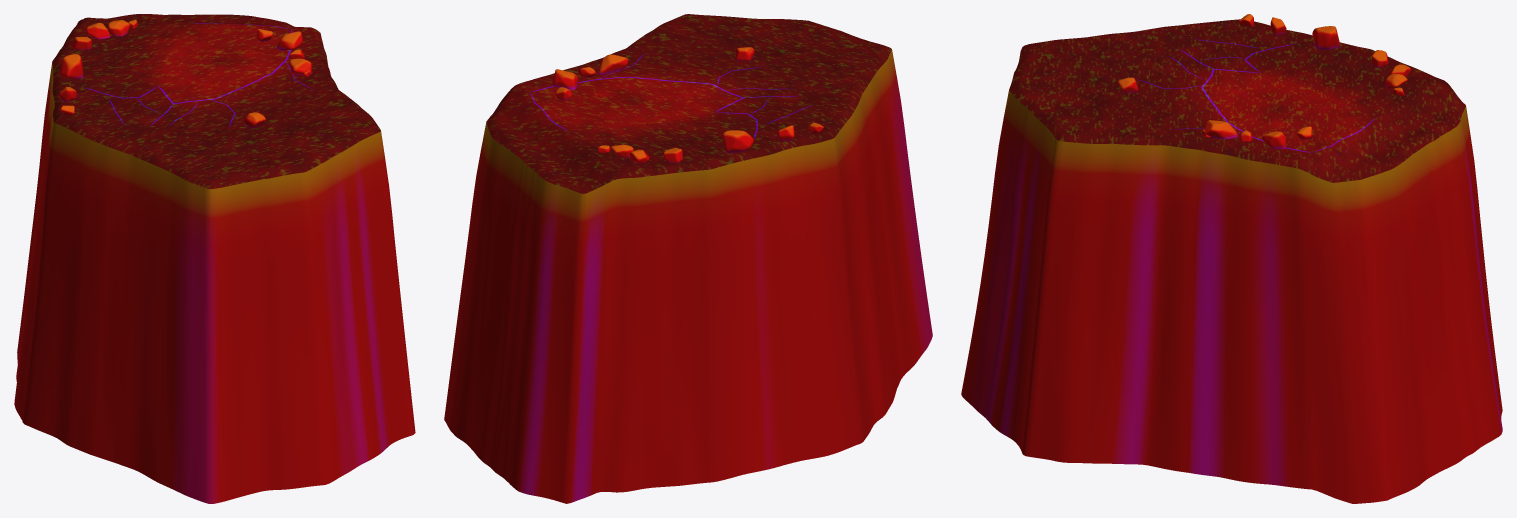
The model's file is slab.glb.
The picture shows the model from 3 angles, left to right: view 1: azimuth 30°, elevation 25°; view 2: azimuth 150°, elevation 25°; view 3: azimuth 270°, elevation 25°; orthographic projection. The views are drawn at different scales.
Parts seen in each view (by area): view 1: slab_side, slab_top, slab_rubble; view 2: slab_side, slab_top, slab_rubble; view 3: slab_side, slab_top, slab_rubble.
Boxes of the visible parts, left/top/right/bottom form: slab_side: left=14, top=59, right=415, bottom=503; slab_top: left=52, top=14, right=380, bottom=188; slab_rubble: left=59, top=19, right=312, bottom=128; slab_side: left=444, top=50, right=932, bottom=503; slab_top: left=486, top=14, right=891, bottom=194; slab_rubble: left=553, top=47, right=823, bottom=163; slab_side: left=961, top=54, right=1502, bottom=503; slab_top: left=1009, top=19, right=1465, bottom=182; slab_rubble: left=1117, top=14, right=1411, bottom=148.
Bounding box in the file's own units: 6.28 × 5.58 × 8.03.
2 materials, 1 textured.
